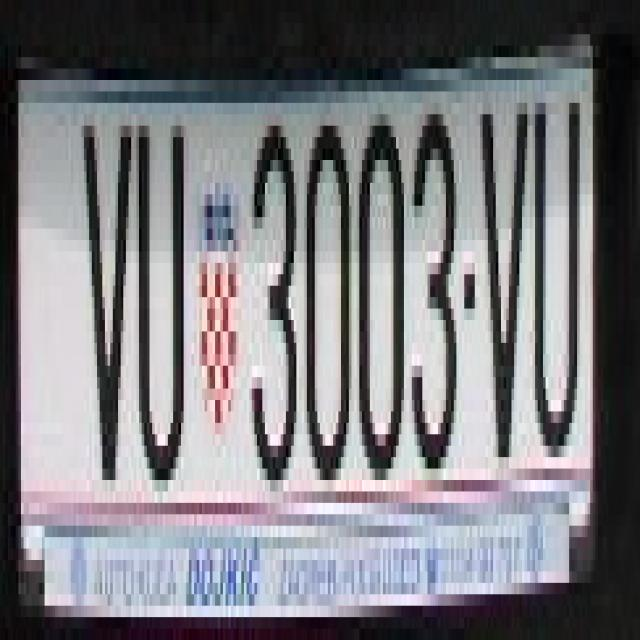0: (351, 91, 404, 480), (304, 103, 349, 480)
3: (412, 91, 456, 480), (252, 114, 296, 480)
U: (131, 103, 189, 480), (532, 80, 585, 446)
V: (78, 103, 134, 491), (480, 80, 522, 469)
